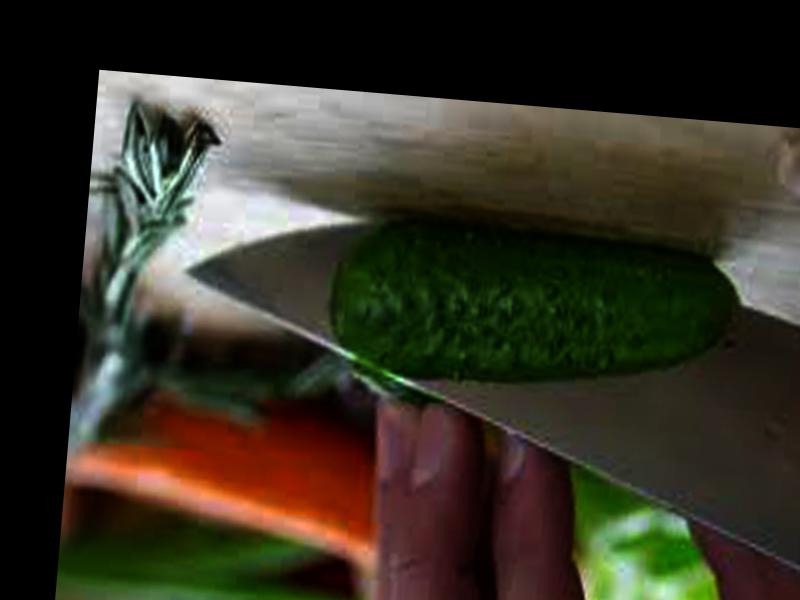Cucumber: (323, 207, 739, 404)
